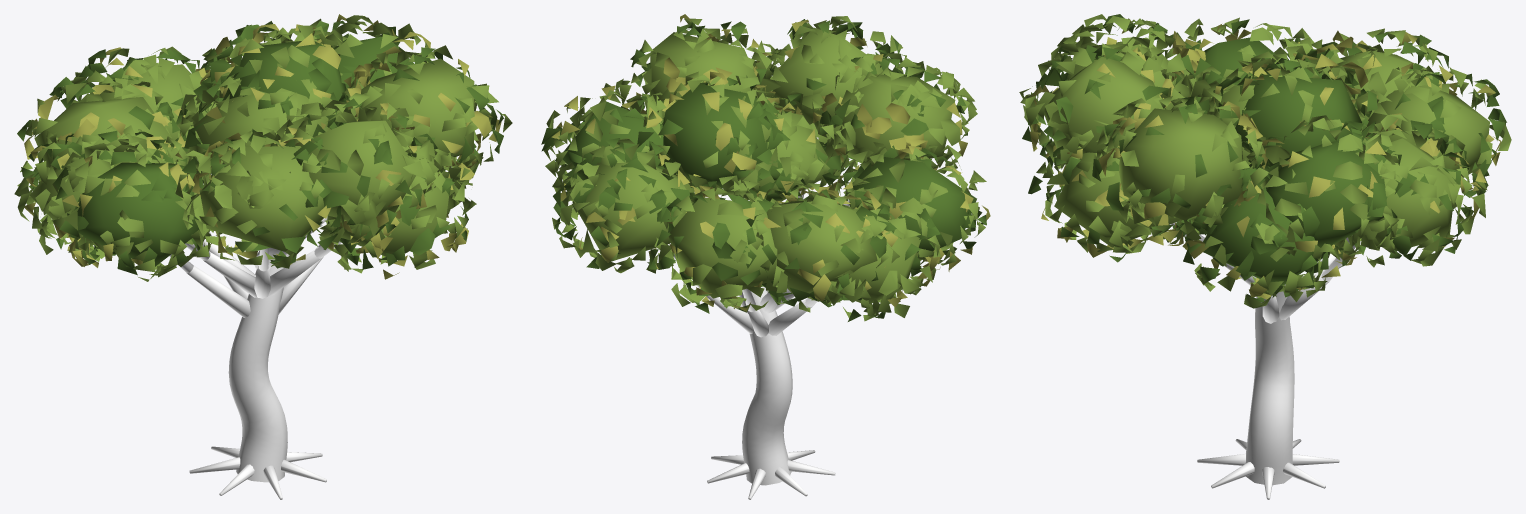
File: PlaneTree_LOD1.glb
3 renders of one model, left to right at view 1: azimuth 30°, elevation 25°; view 2: azimuth 150°, elevation 25°; view 3: azimuth 270°, elevation 25°, orthographic. The views are drawn at different scales.
Visible parts, largest first — view 1: RK_PlaneTree_LOD1_RK_Leaf, RK_PlaneTree_LOD1_RK_LeafDark, RK_PlaneTree_LOD1_RK_Bark, RK_PlaneTree_LOD1_RK_LeafGold; view 2: RK_PlaneTree_LOD1_RK_Leaf, RK_PlaneTree_LOD1_RK_LeafDark, RK_PlaneTree_LOD1_RK_LeafGold, RK_PlaneTree_LOD1_RK_Bark; view 3: RK_PlaneTree_LOD1_RK_Leaf, RK_PlaneTree_LOD1_RK_LeafDark, RK_PlaneTree_LOD1_RK_LeafGold, RK_PlaneTree_LOD1_RK_Bark.
Part boxes in pixels (box(x1,y1,x2,y2)): RK_PlaneTree_LOD1_RK_Leaf: box(14, 15, 512, 281); RK_PlaneTree_LOD1_RK_LeafDark: box(17, 20, 503, 275); RK_PlaneTree_LOD1_RK_Bark: box(169, 216, 341, 499); RK_PlaneTree_LOD1_RK_LeafGold: box(24, 14, 501, 279); RK_PlaneTree_LOD1_RK_Leaf: box(543, 16, 986, 321); RK_PlaneTree_LOD1_RK_LeafDark: box(541, 19, 986, 321); RK_PlaneTree_LOD1_RK_LeafGold: box(551, 14, 990, 311); RK_PlaneTree_LOD1_RK_Bark: box(668, 135, 849, 499); RK_PlaneTree_LOD1_RK_Leaf: box(1019, 14, 1511, 308); RK_PlaneTree_LOD1_RK_LeafDark: box(1022, 14, 1506, 302); RK_PlaneTree_LOD1_RK_LeafGold: box(1030, 18, 1501, 299); RK_PlaneTree_LOD1_RK_Bark: box(1170, 222, 1355, 499).
Bounding box in the file's own units: 6.34 × 5.98 × 6.12.
